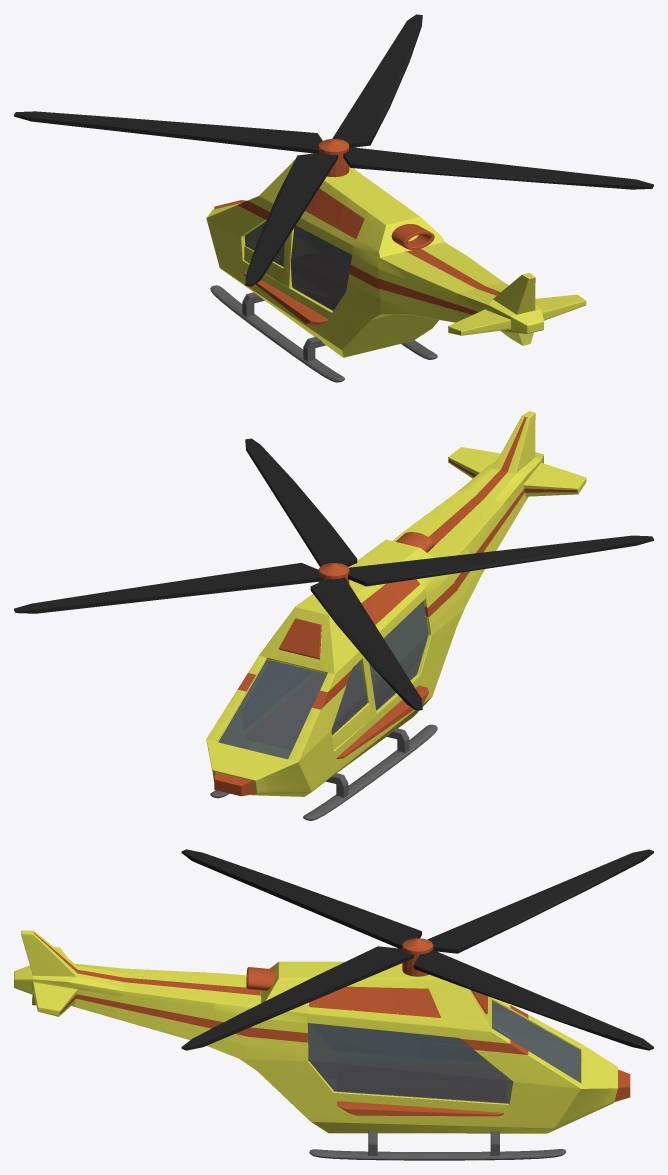
The model's file is medevac-v1.glb.
3 views of the same model, one above another, from view 1: azimuth 30°, elevation 25°; view 2: azimuth 150°, elevation 25°; view 3: azimuth 270°, elevation 25° (orthographic).
Parts seen in each view (by area): view 1: Cube_0, Cube.003_0, Cube.004_0, Cube.006_0, Cube.005_0, Cube_1, Cube_2, Cube.001_0, Cube.009_0, Cylinder_0, Cylinder.004_0; view 2: Cube_0, Cube_1, Cube_2, Cube.005_0, Cube.006_0, Cube.004_0, Cube.003_0, Cube.001_0, Cube.009_0, Cube.010_0; view 3: Cube_0, Cube_1, Cube_2, Cube.005_0, Cube.003_0, Cube.004_0, Cube.006_0, Cube.002_0, Cube.009_0, Cylinder.004_0, Cylinder_0.
Boxes of the visible parts, x1,y1,x2,y2 form: Cube_0: [206, 159, 586, 357]; Cube.003_0: [343, 147, 653, 189]; Cube.004_0: [14, 111, 322, 153]; Cube.006_0: [245, 152, 337, 286]; Cube.005_0: [332, 14, 422, 147]; Cube_1: [244, 222, 352, 310]; Cube_2: [238, 188, 500, 314]; Cube.001_0: [210, 285, 344, 382]; Cube.009_0: [244, 271, 329, 325]; Cylinder_0: [391, 224, 434, 249]; Cylinder.004_0: [318, 139, 349, 177]; Cube_0: [206, 411, 586, 796]; Cube_1: [218, 601, 428, 759]; Cube_2: [237, 417, 577, 709]; Cube.005_0: [14, 563, 323, 613]; Cube.006_0: [348, 535, 653, 586]; Cube.004_0: [310, 577, 422, 710]; Cube.003_0: [245, 438, 357, 566]; Cube.001_0: [303, 724, 437, 820]; Cube.009_0: [336, 685, 428, 759]; Cube.010_0: [214, 772, 254, 796]; Cube_0: [14, 930, 617, 1133]; Cube_1: [308, 1000, 580, 1103]; Cube_2: [34, 932, 528, 1054]; Cube.005_0: [413, 949, 653, 1050]; Cube.003_0: [181, 946, 413, 1050]; Cube.004_0: [427, 849, 653, 953]; Cube.006_0: [181, 849, 421, 948]; Cube.002_0: [309, 1149, 566, 1160]; Cube.009_0: [337, 1101, 503, 1116]; Cylinder.004_0: [402, 938, 433, 976]; Cylinder_0: [246, 967, 276, 990].
Bounding box in the file's own units: 8.86 × 4.23 × 12.01.
